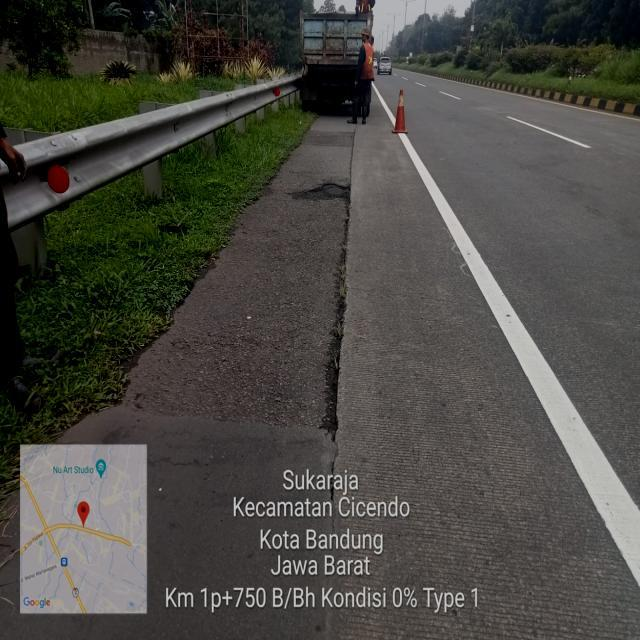Buraco: (281, 181, 354, 204)
